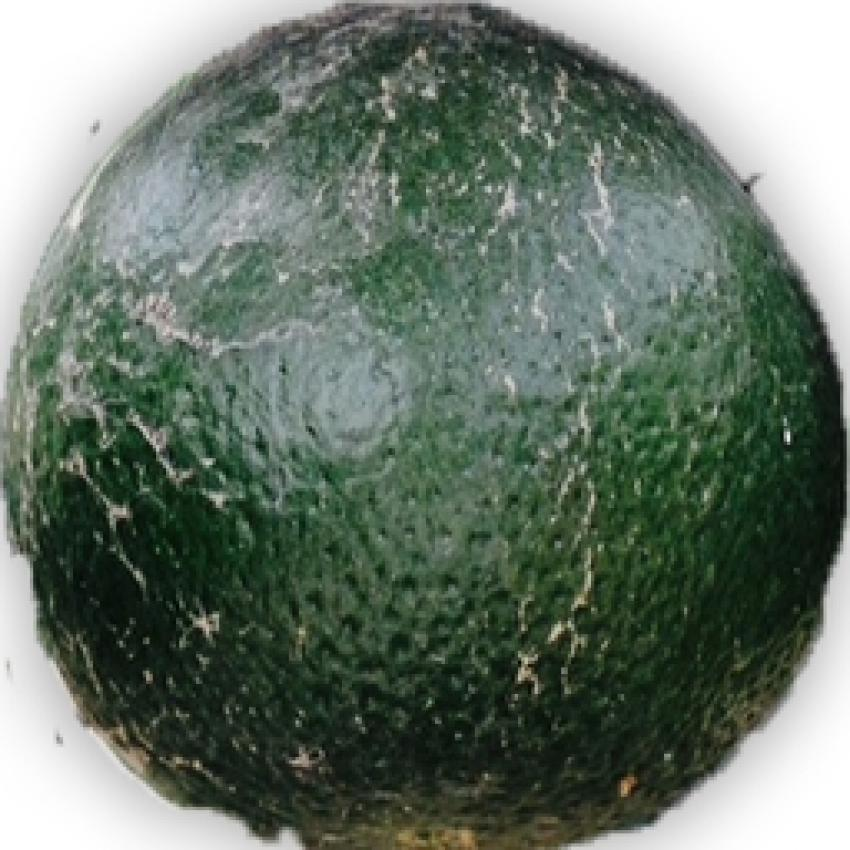Mal estado: (0, 16, 847, 847)
